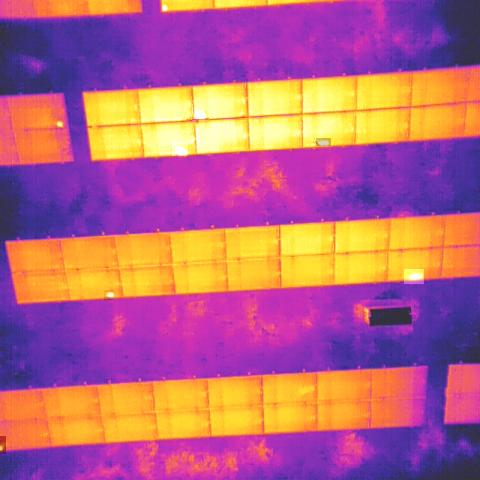fault: (404, 269, 424, 284), (192, 108, 209, 122), (172, 142, 188, 156), (316, 138, 331, 146), (54, 116, 63, 129), (0, 436, 6, 454), (104, 290, 114, 300)
